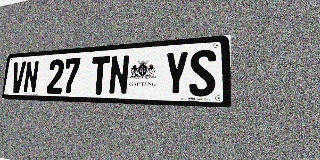2: (47, 59, 65, 94)
7: (62, 58, 81, 94)
N: (108, 55, 130, 95), (23, 60, 39, 93)
S: (189, 49, 216, 97)
T: (90, 56, 110, 95)
V: (10, 61, 26, 93)
Y: (163, 51, 189, 96)
